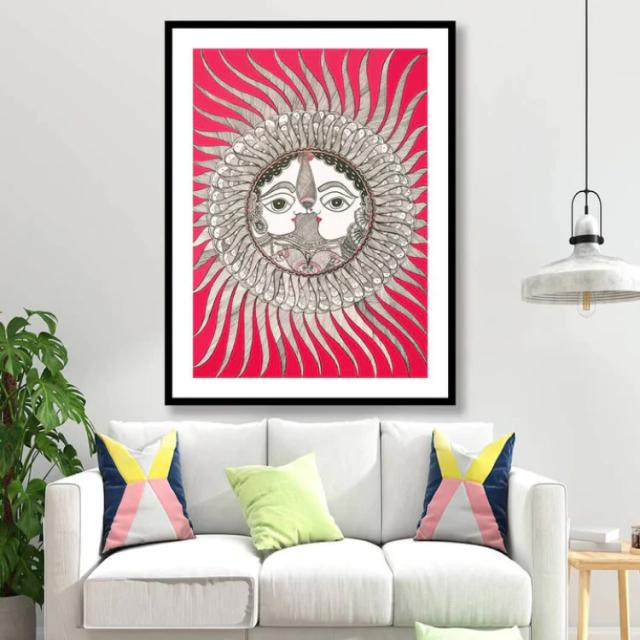painting: (164, 17, 458, 405)
